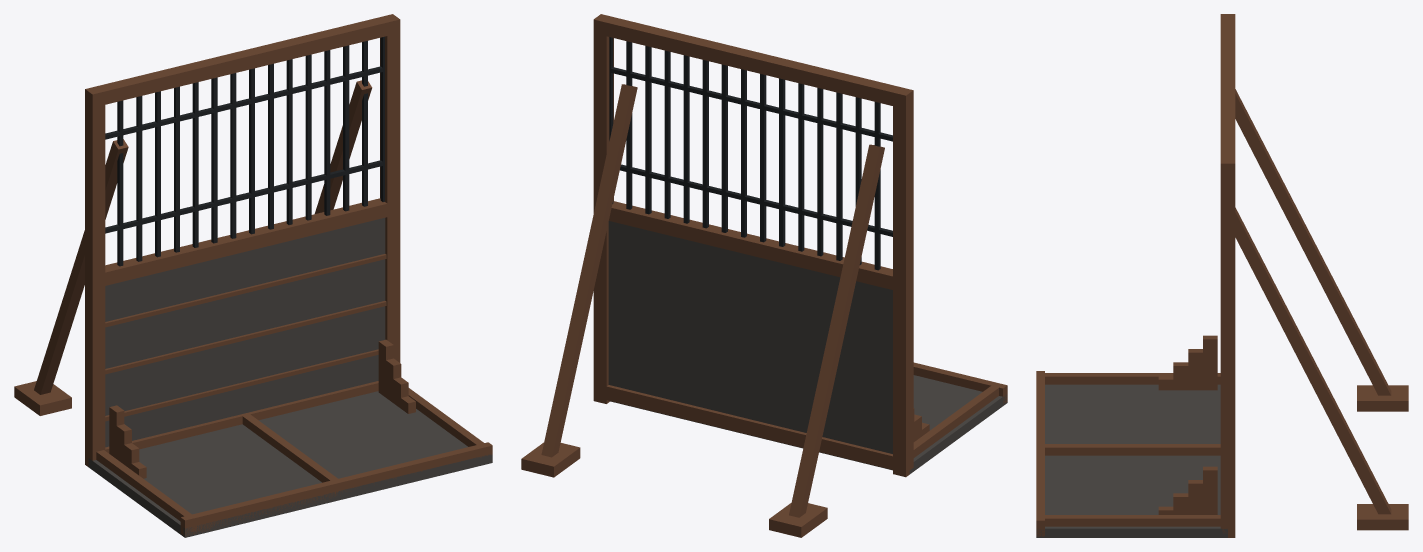
File: valla_l.fbx
3 views of the same model, side by side, from view 1: azimuth 30°, elevation 25°; view 2: azimuth 150°, elevation 25°; view 3: azimuth 270°, elevation 25° (orthographic).
Visible parts, largest first — view 1: valla_l; view 2: valla_l; view 3: valla_l.
Boxes of the visible parts, left/top/right/bottom form: valla_l: left=14, top=14, right=492, bottom=537; valla_l: left=521, top=14, right=1007, bottom=537; valla_l: left=1036, top=14, right=1408, bottom=537.
Bounding box in the file's own units: 2.4 × 2.82 × 2.52.
